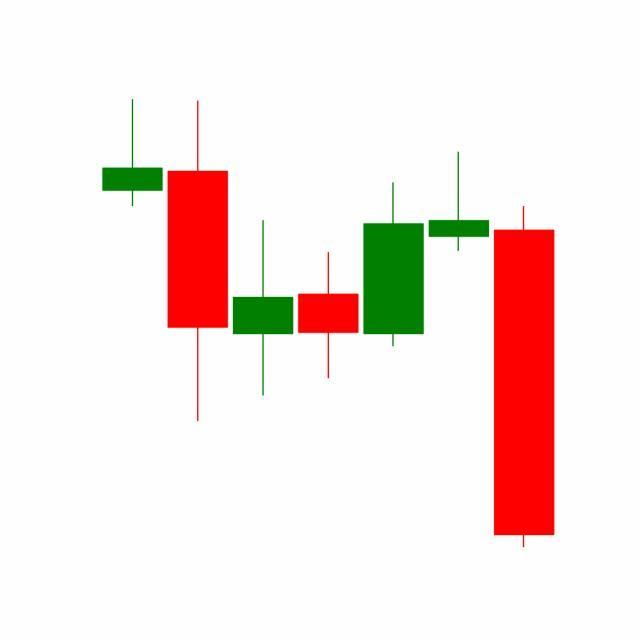Hikkake Pattern: (229, 147, 555, 548)
